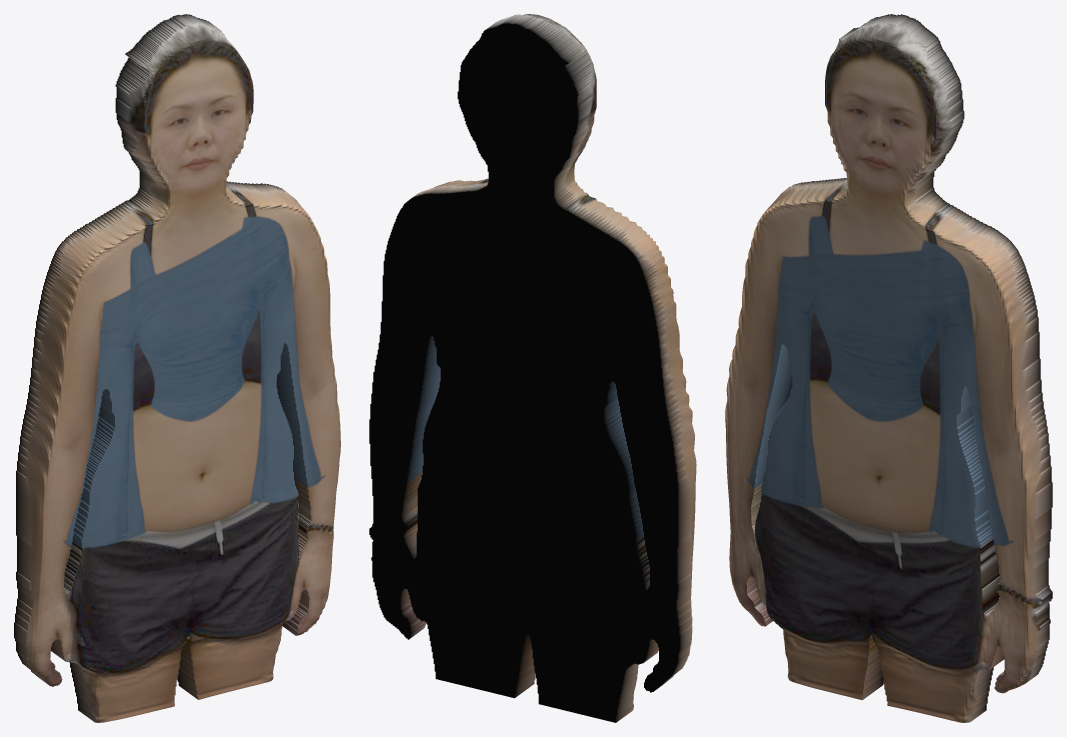
File: avatar_20260409_212019.glb
The picture shows the model from 3 angles, left to right: view 1: azimuth 30°, elevation 25°; view 2: azimuth 150°, elevation 25°; view 3: azimuth 330°, elevation 25°; orthographic projection.
Visible parts, largest first — view 1: world; view 2: world; view 3: world.
Part boxes in pixels (x1,y1,x2,y2): world: (14, 14, 340, 722); world: (369, 14, 696, 722); world: (725, 14, 1052, 722).
Bounding box in the file's own units: 0.9508 × 1.97 × 0.1392.
